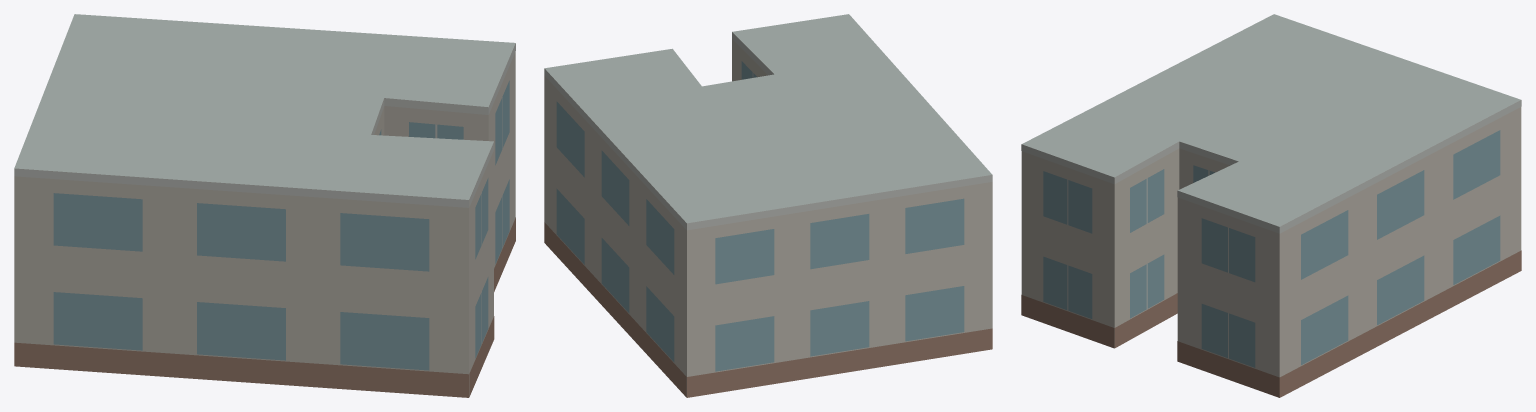
File: survey-upis-32754415.glb
3 views of the same model, side by side, from view 1: azimuth 30°, elevation 25°; view 2: azimuth 150°, elevation 25°; view 3: azimuth 270°, elevation 25° (orthographic). The views are drawn at different scales.
Parts seen in each view (by area): view 1: survey-upis-32754415.tmp; view 2: survey-upis-32754415.tmp; view 3: survey-upis-32754415.tmp.
Part boxes in pixels (box(x1,y1,x2,y2)): survey-upis-32754415.tmp: box(14, 14, 515, 397); survey-upis-32754415.tmp: box(544, 14, 992, 397); survey-upis-32754415.tmp: box(1021, 14, 1521, 397).
Bounding box in the file's own units: 16.3 × 6.1 × 16.17.
